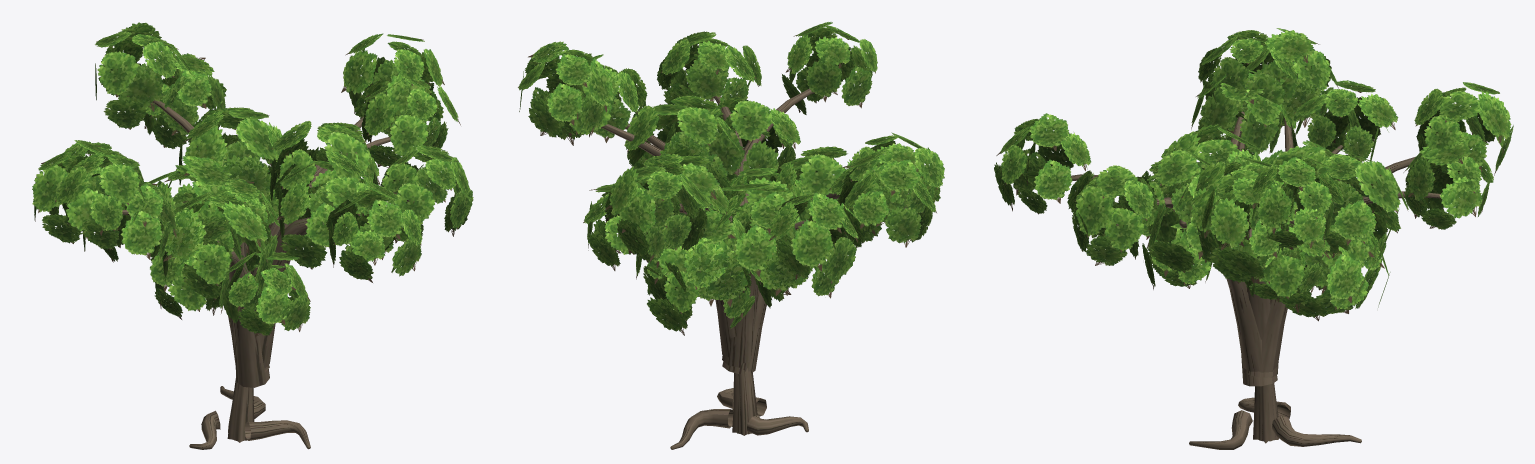
The model's file is broadleaf-a.glb.
The picture shows the model from 3 angles, left to right: view 1: azimuth 30°, elevation 25°; view 2: azimuth 150°, elevation 25°; view 3: azimuth 270°, elevation 25°; orthographic projection. The views are drawn at different scales.
Visible parts, largest first — view 1: BigTree-broadleaf-a; view 2: BigTree-broadleaf-a; view 3: BigTree-broadleaf-a.
Boxes of the visible parts, <box> form: BigTree-broadleaf-a: <box>32,22,473,449</box>; BigTree-broadleaf-a: <box>518,22,944,449</box>; BigTree-broadleaf-a: <box>994,28,1513,449</box>.
Size of the model in its own units: 10.05 by 8 by 10.54.
Materials: 1 (1 with a texture image).
